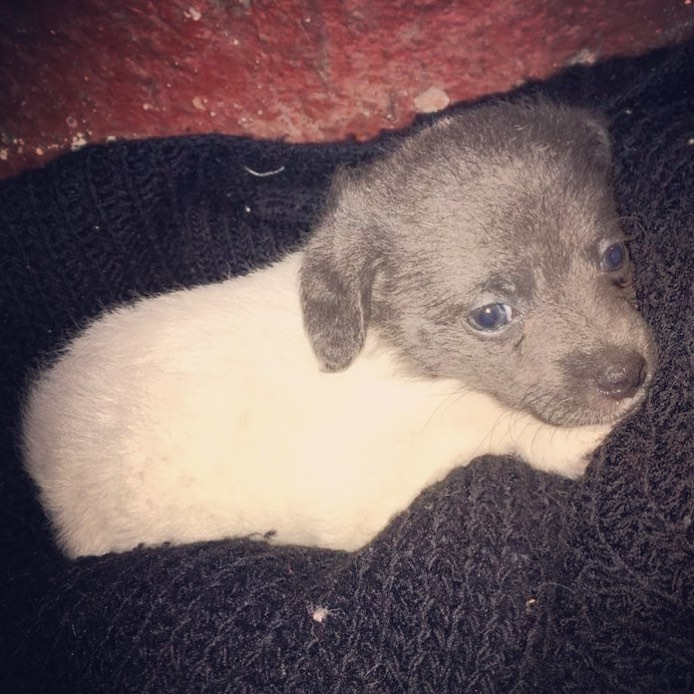dog: (12, 90, 662, 601)
